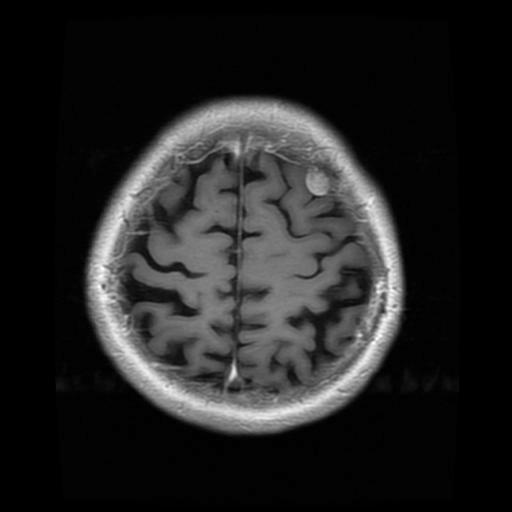Tumour-Pituitary: (283, 175, 341, 206)
